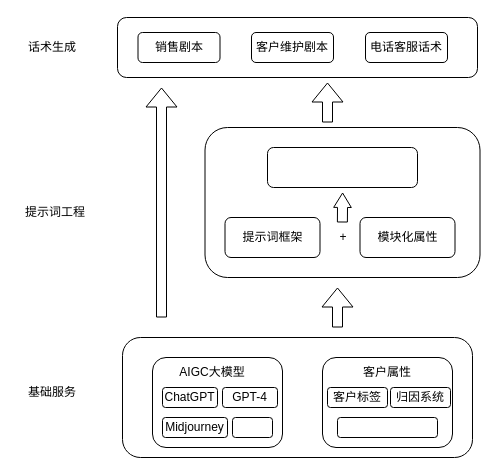
This 497x475 diagram has some shape labels left out. The centre of each missing label's shape, as x and y in pixels:
"ChatJD" goes at pixel 252 427.
"个性化权益" goes at pixel 387 427.
"智能提示词" goes at pixel 342 167.
